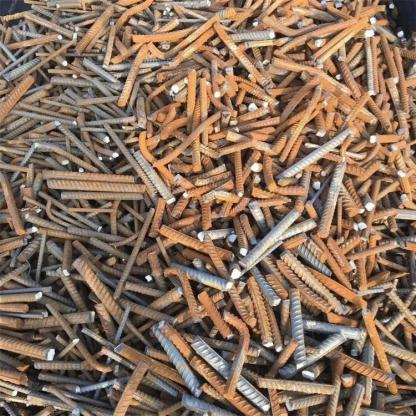rebar: (5, 3, 415, 413)
